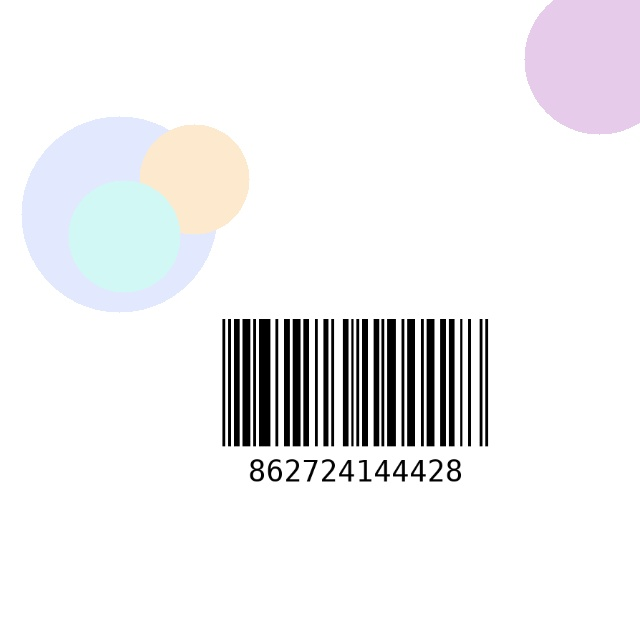barcode: (168, 311, 543, 512)
